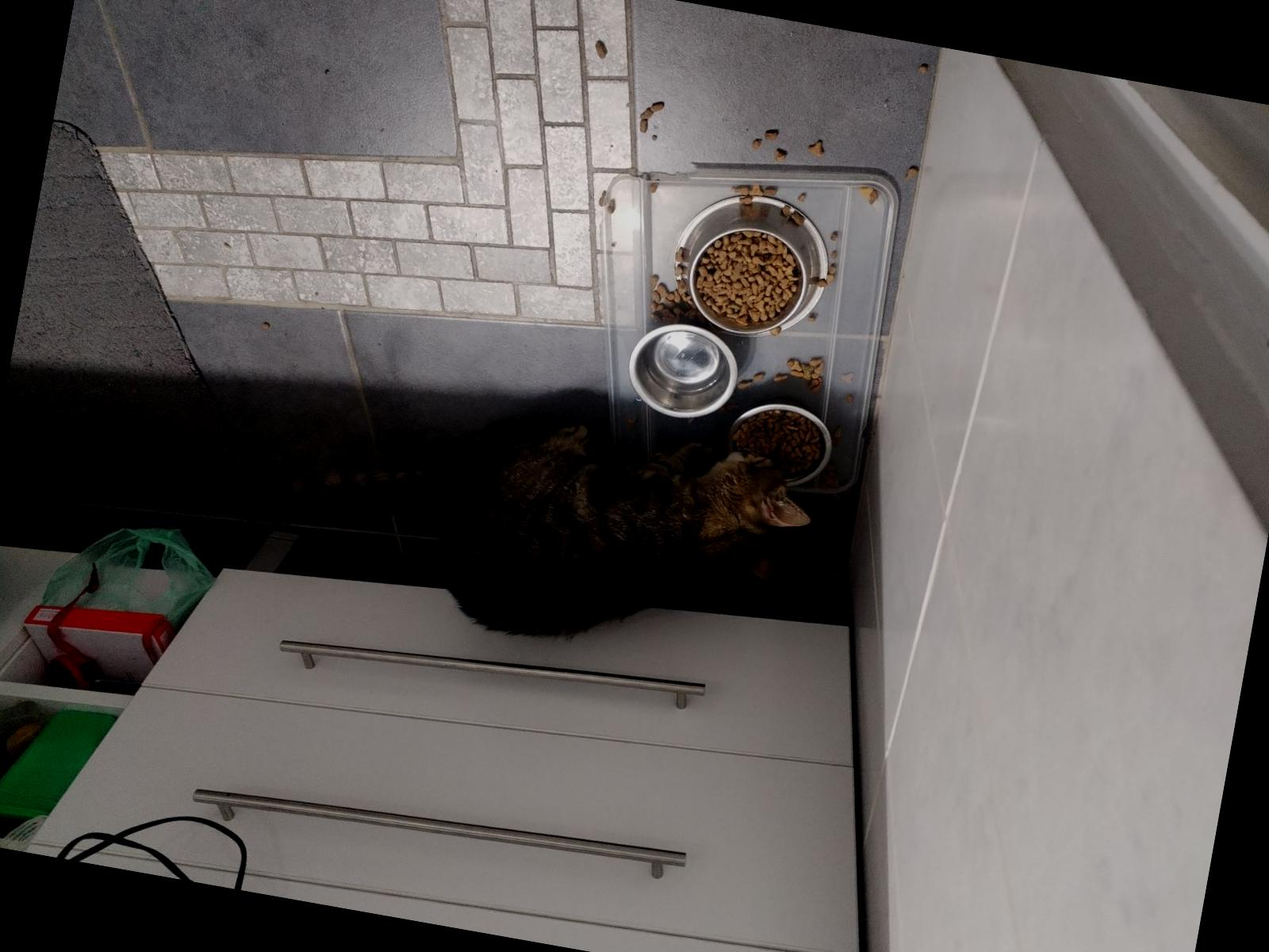macka: (192, 360, 822, 683)
